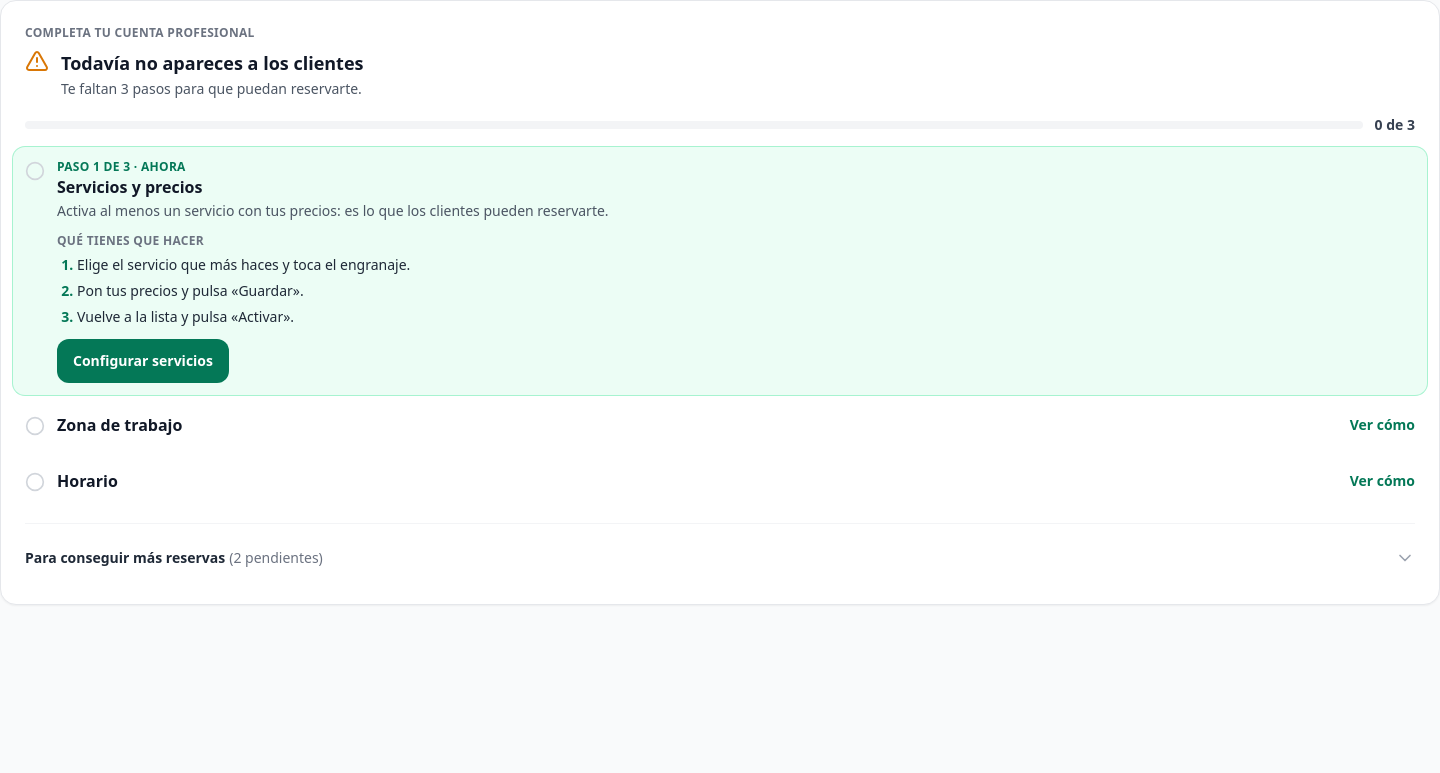
ProviderSetupChecklist › los recomendados van plegados aparte
Expected: the text "Foto de perfil" is not shown
Click the button "Para conseguir más reservas(2 pendientes)" at (125, 558), box [25,536,1415,580]
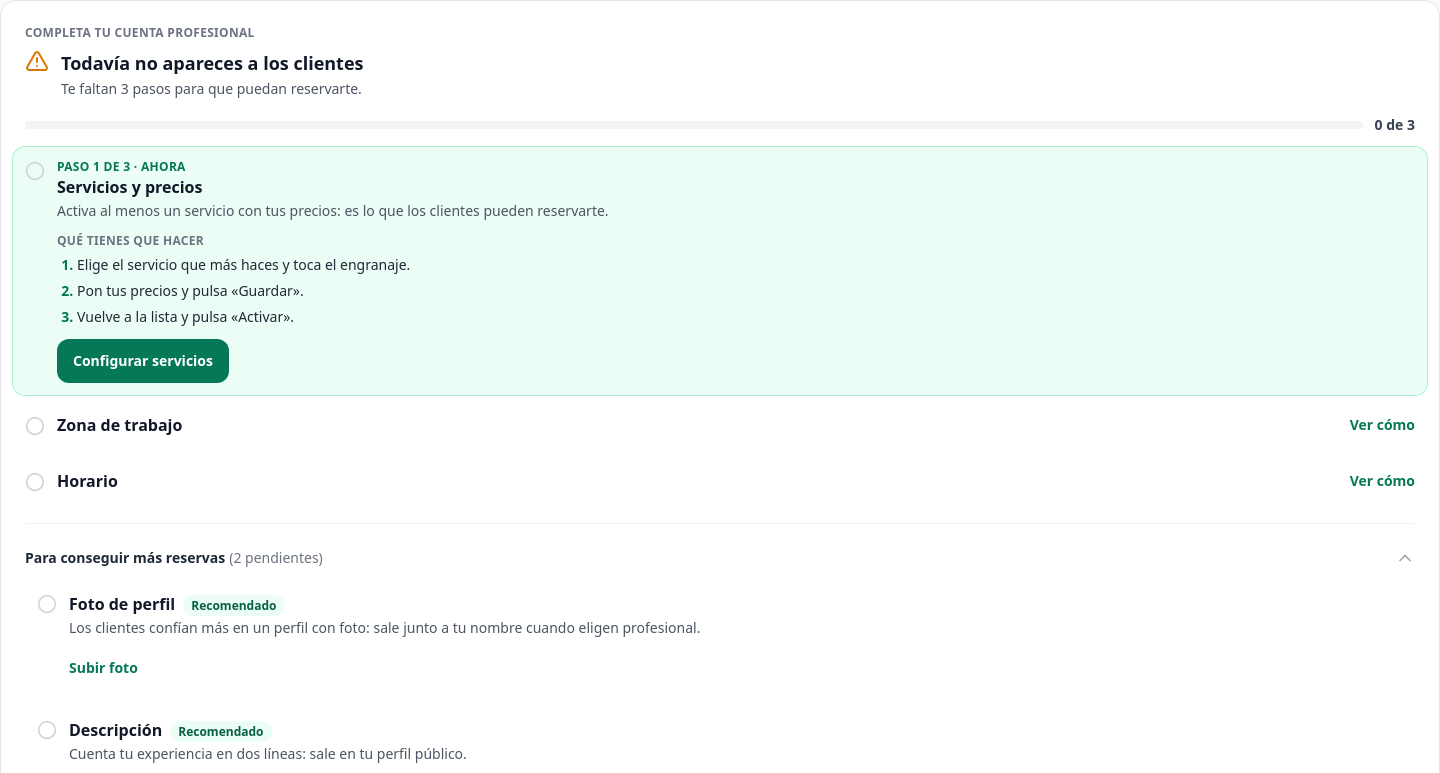
Result: the text "Foto de perfil" is shown at [69,593,175,615]
Result: the button "Subir foto" is shown at [69,646,138,690]
